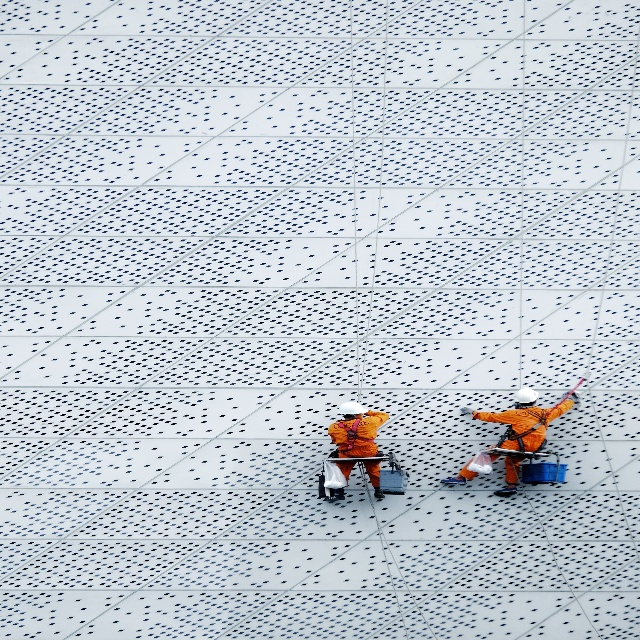Guantes: (459, 406, 476, 414)
